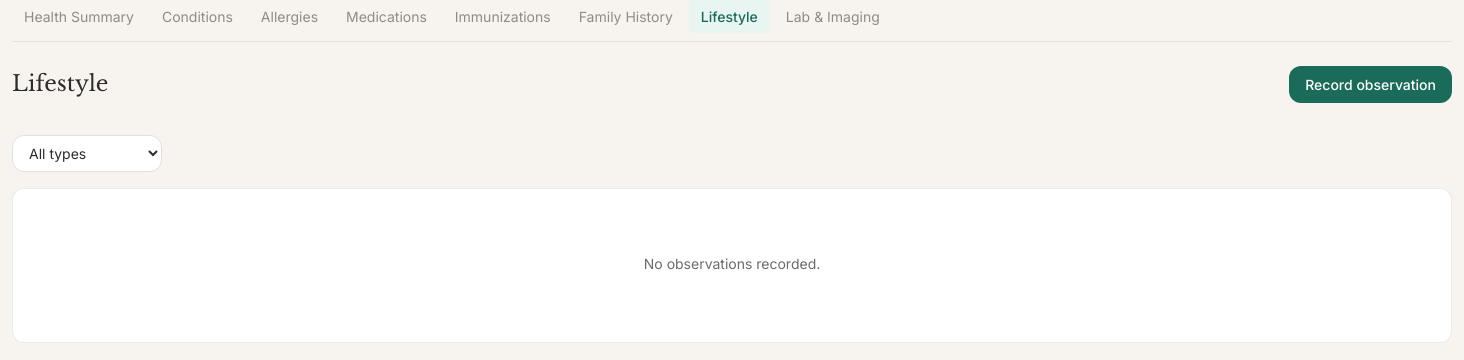
Test case: LifestylePage › shows trend button when type is filtered
This screenshot has width=1464, height=360.
Expected: the text "No observations recorded." is shown, x1=644 y1=255 x2=820 y2=272
Select "Sleep Duration" in the dropdown showing "All types". click: (87, 154)
box: x1=12 y1=135 x2=162 y2=172
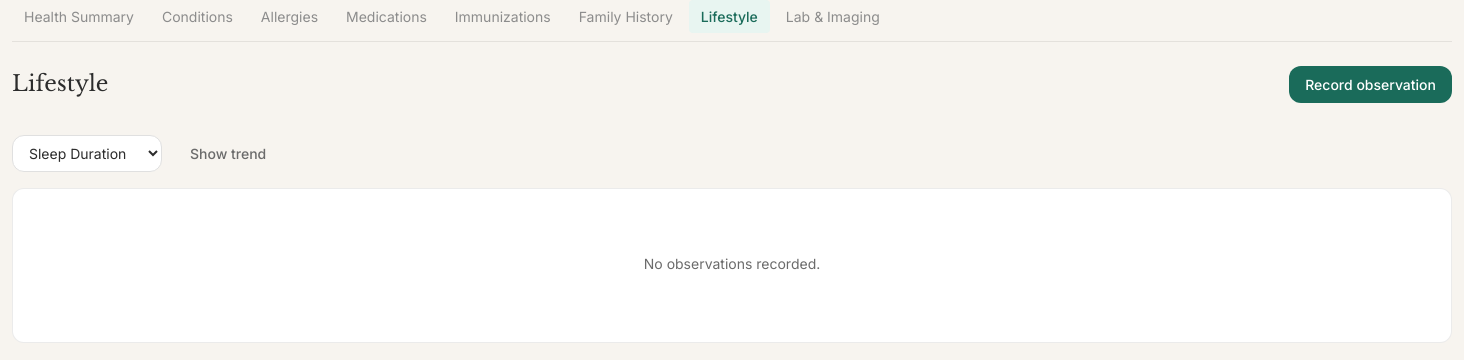
Result: the button "Show trend" is shown at x1=174 y1=135 x2=282 y2=172
